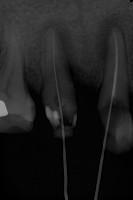Dental Caries: (40, 20, 80, 79)
Furcation Involvement: (96, 17, 130, 66)
